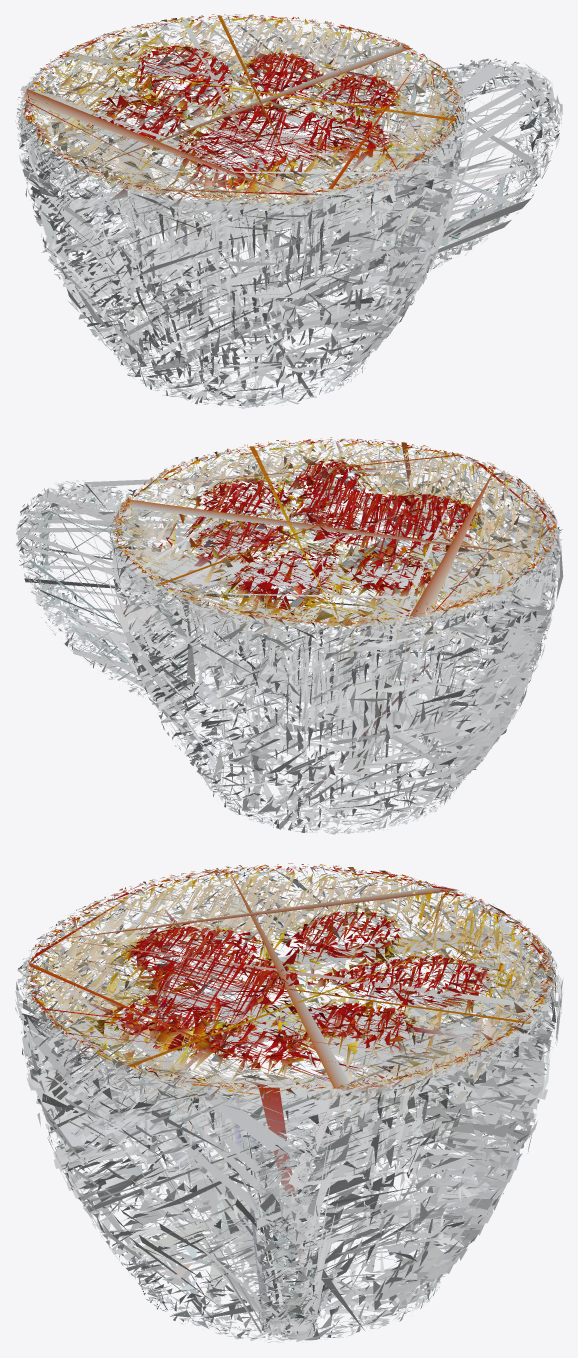
Rendered from cappucino_with_a_bear_paw_on_top_made_of_ground_cinnamon__ma_21560.glb.
3 renders of one model, top to bottom at view 1: azimuth 30°, elevation 25°; view 2: azimuth 150°, elevation 25°; view 3: azimuth 270°, elevation 25°, orthographic. The views are drawn at different scales.
Parts seen in each view (by area): view 1: Ref; view 2: Ref; view 3: Ref.
Boxes of the visible parts, x1,y1,x2,y2 form: Ref: [15, 14, 562, 408]; Ref: [15, 437, 563, 834]; Ref: [15, 863, 563, 1342].
Size of the model in its own units: 1.71 by 0.8098 by 1.32.
